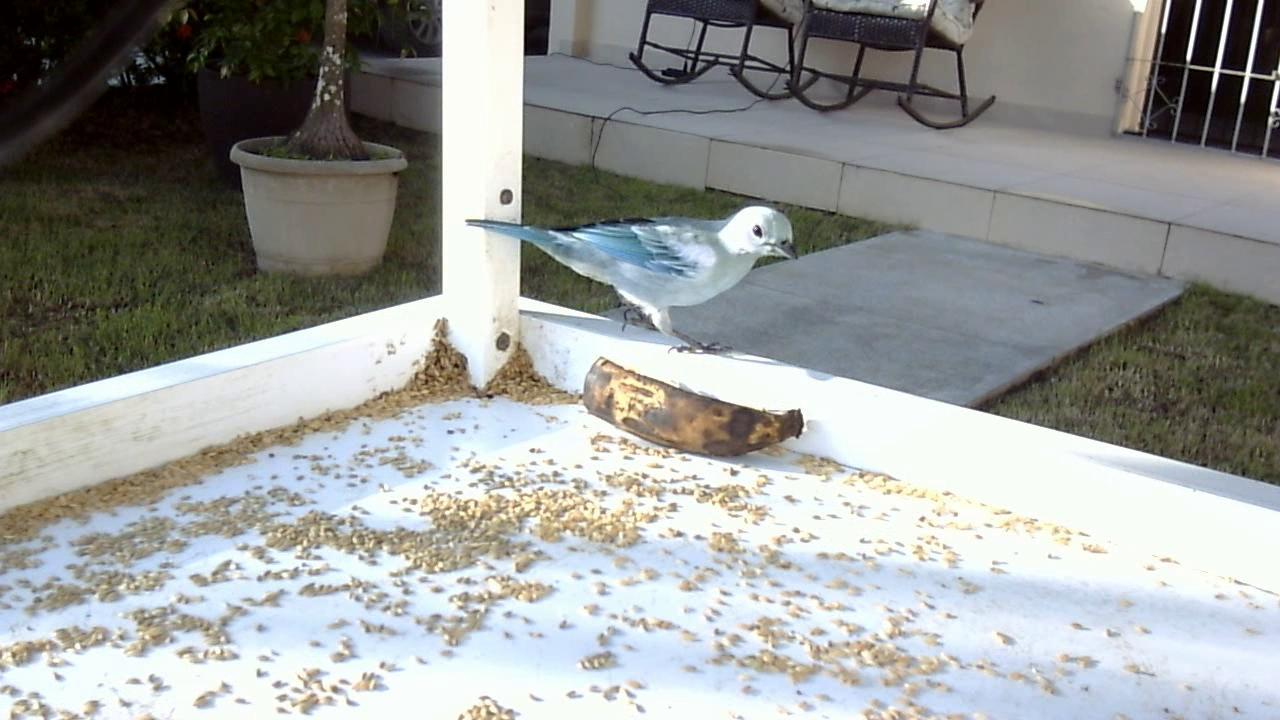sanhaco_da_amazonia: (468, 192, 800, 356)
